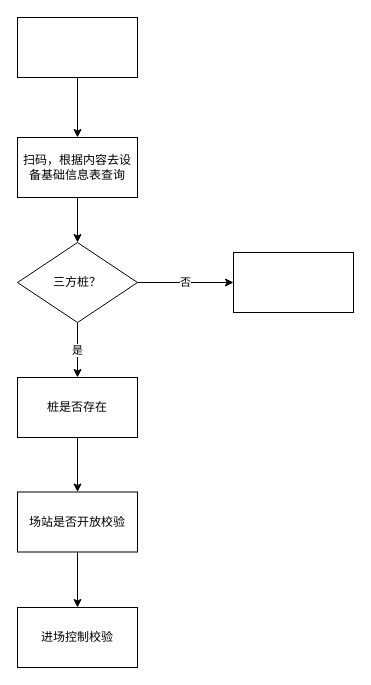
This 371x685 diagram has some shape labels left out. Here are the shapes that lost their labels. From the top down, the centre of each, then its label:
At point 77,47: "三方桩枪二维码".
At point 293,282: "原有逻辑".
